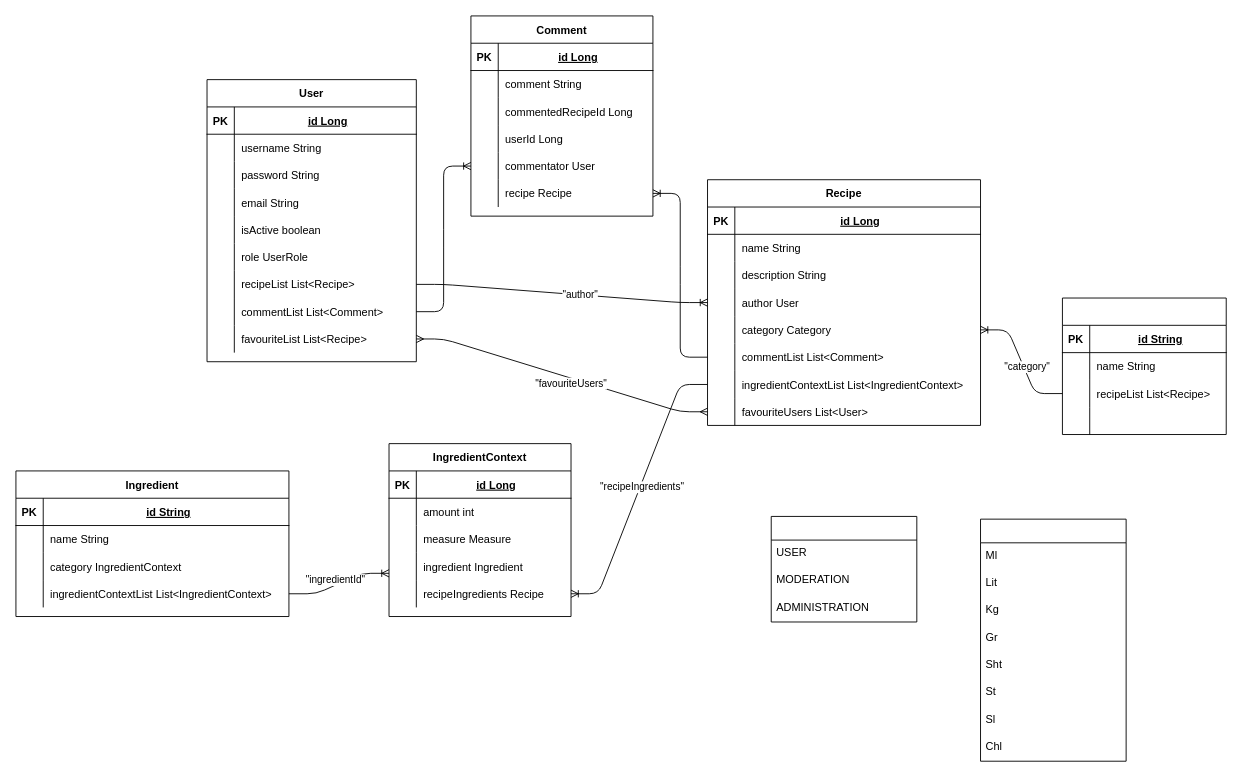
Image size: 1242x780. Some labels were removed from this diagram. Each missing label, with the box of its shape:
Category: (1062, 297, 1226, 435)
MEASURE: (980, 518, 1126, 761)
USERROLE: (770, 516, 917, 622)
